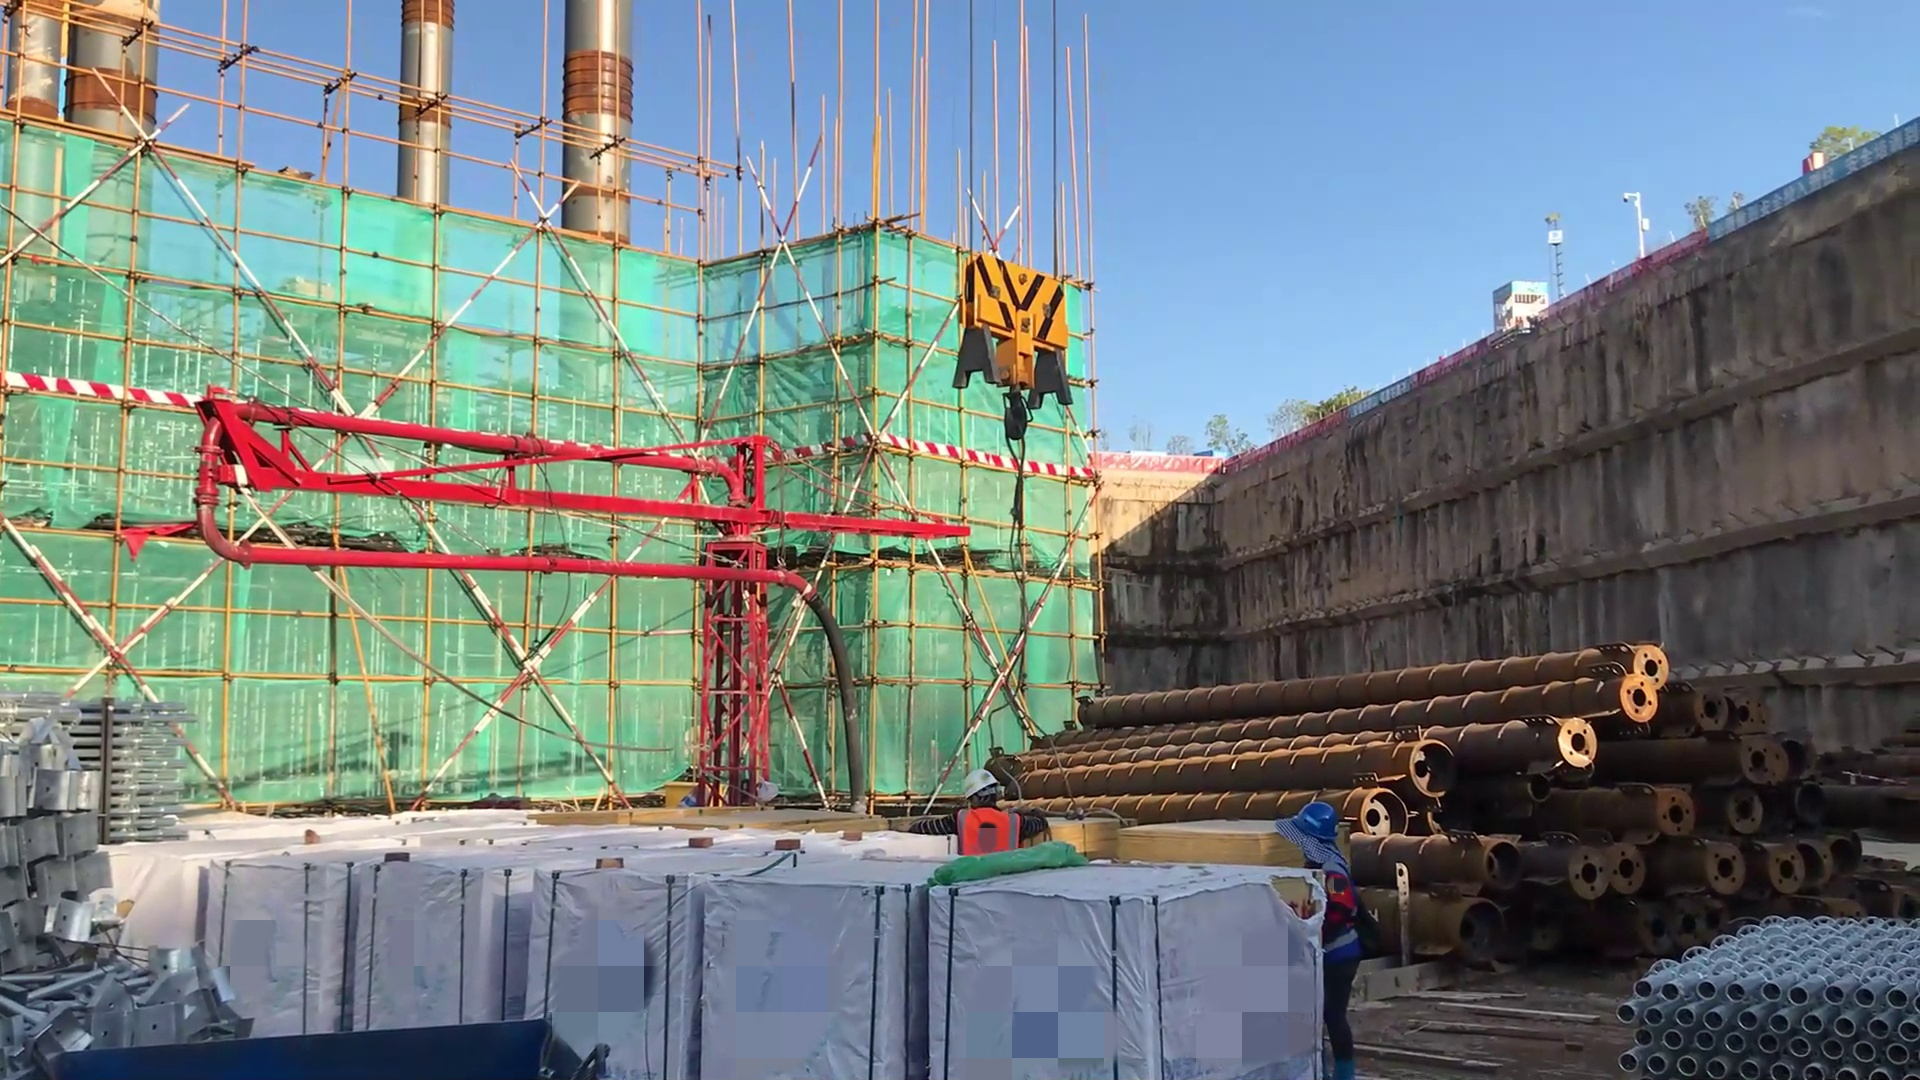board: (1111, 820, 1305, 881), (1026, 817, 1125, 861)
ebox: (659, 769, 725, 819)
helmet: (958, 766, 1011, 819), (1294, 800, 1341, 842)
hook: (952, 234, 1094, 492)
hopper: (45, 992, 613, 1080)
person: (1266, 782, 1377, 1080), (892, 763, 1056, 879)
scaffold: (1614, 905, 1920, 1080), (61, 694, 229, 859)
slogan: (1711, 126, 1920, 252), (1347, 366, 1416, 416)
vest: (1286, 846, 1369, 979), (948, 809, 1027, 861)
